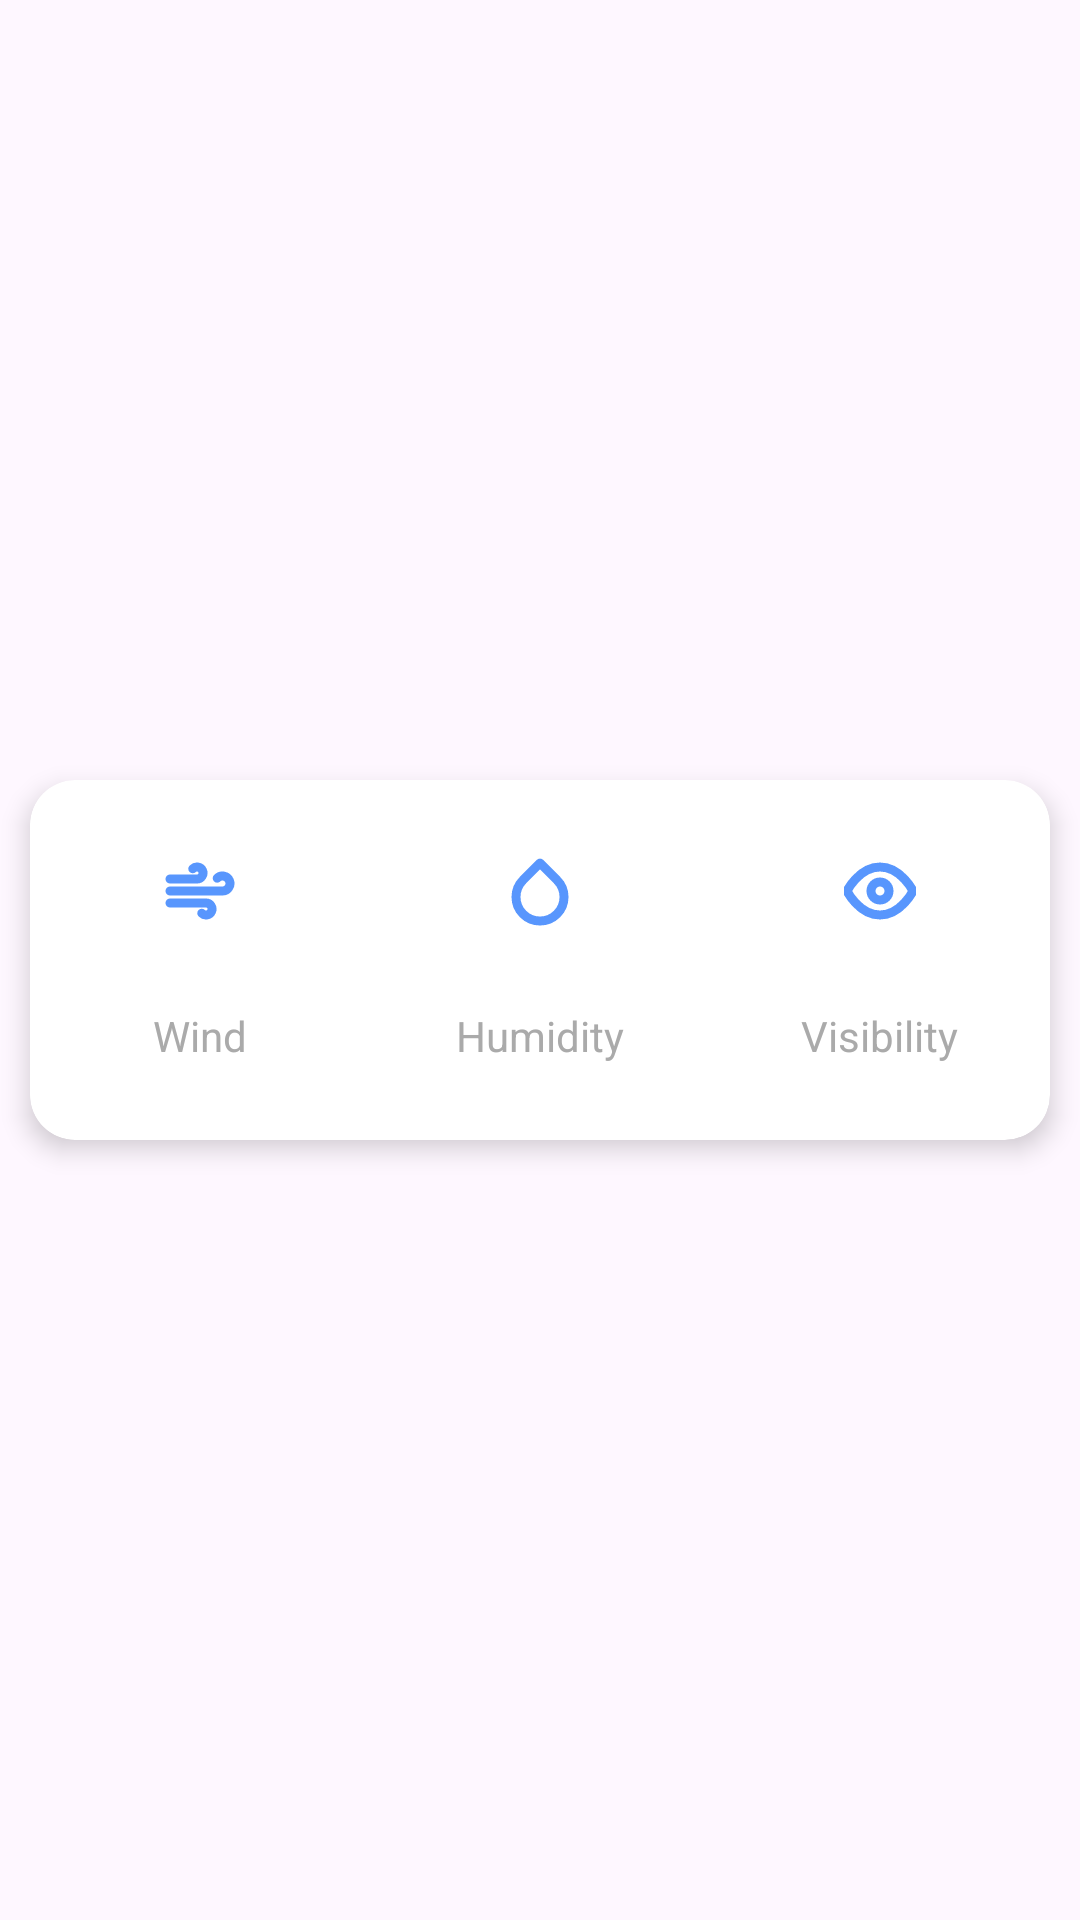

Named icons in this screenshot (1080w x 1920h) and their bounding boxes, (x1, y1, x2, y2):
eye: (844, 862, 916, 920)
